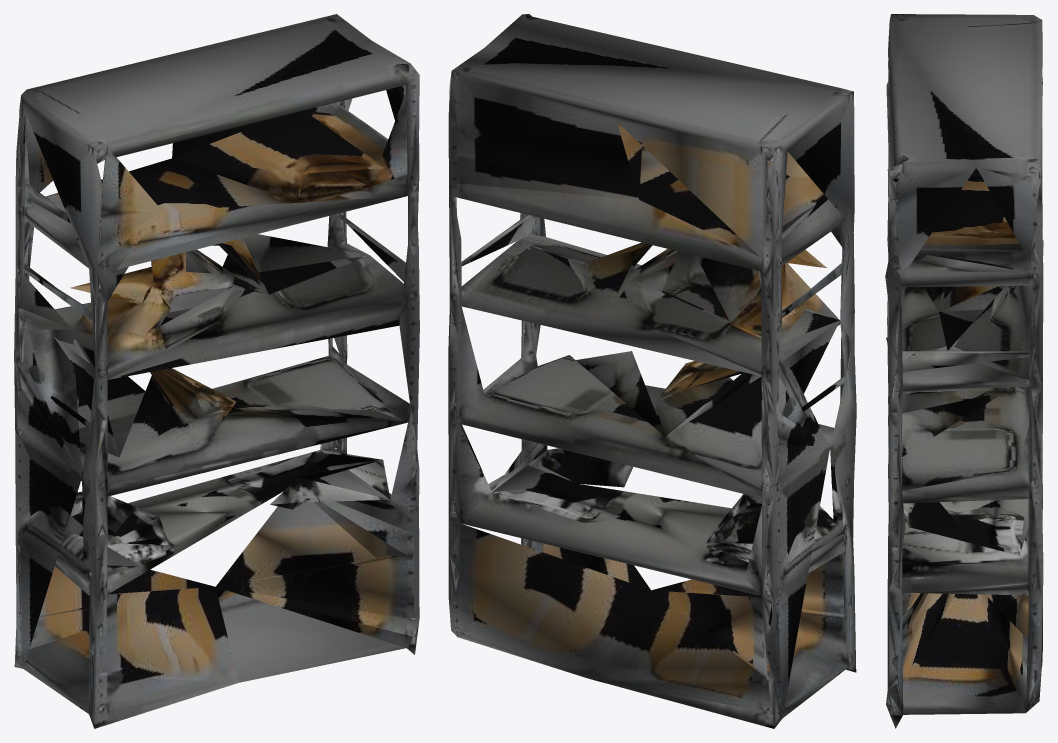
File: supply_shelving.glb
The picture shows the model from 3 angles, left to right: view 1: azimuth 30°, elevation 25°; view 2: azimuth 150°, elevation 25°; view 3: azimuth 270°, elevation 25°; orthographic projection. The views are drawn at different scales.
Visible parts, largest first — view 1: Model; view 2: Model; view 3: Model.
Part boxes in pixels (x1,y1,x2,y2): Model: (14,14,419,728); Model: (448,14,856,728); Model: (885,14,1043,728).
Size of the model in its own units: 1.15 by 1.98 by 0.5018.
Materials: 1 (1 with a texture image).
